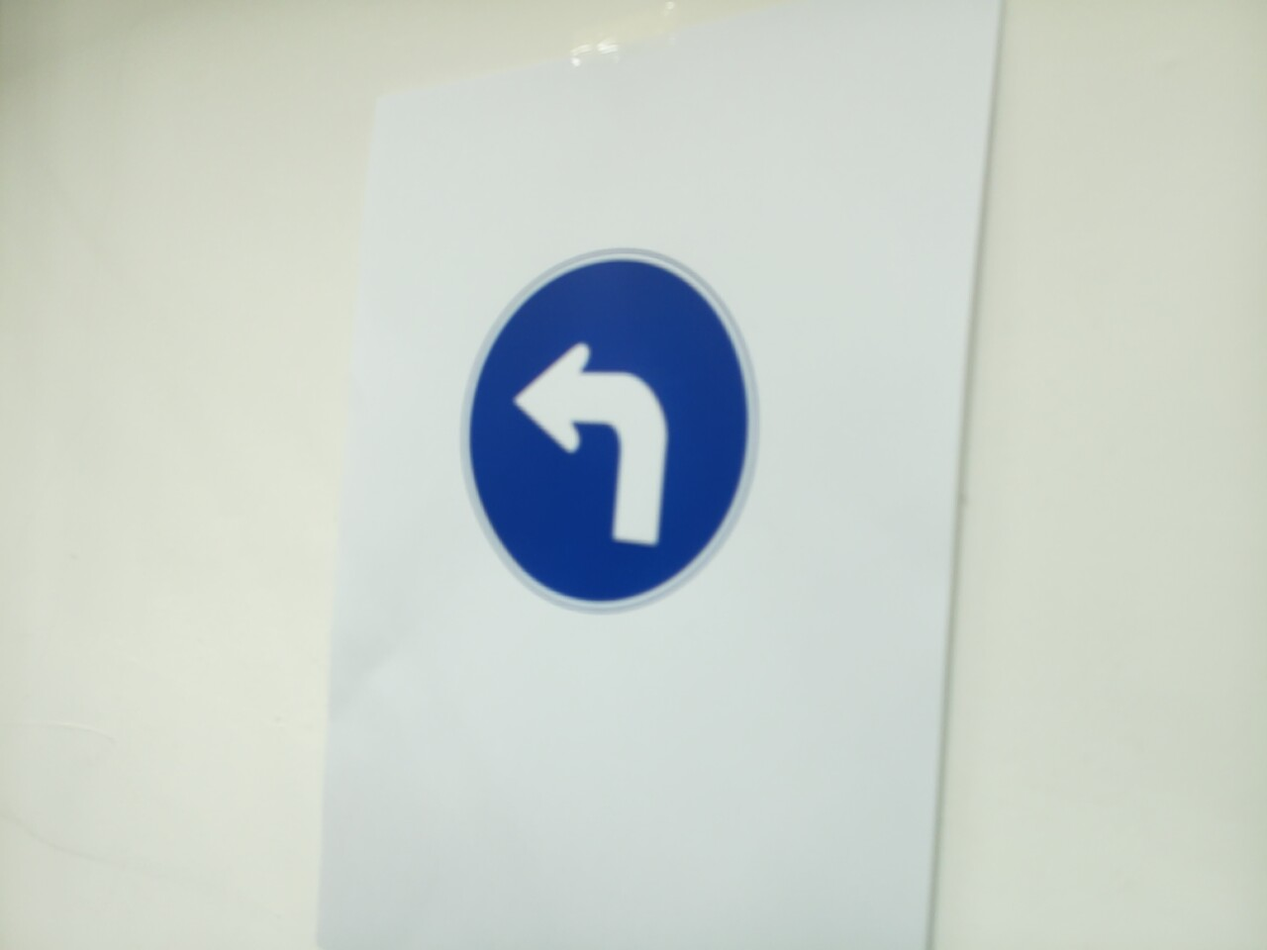left_turn: (460, 248, 757, 613)
